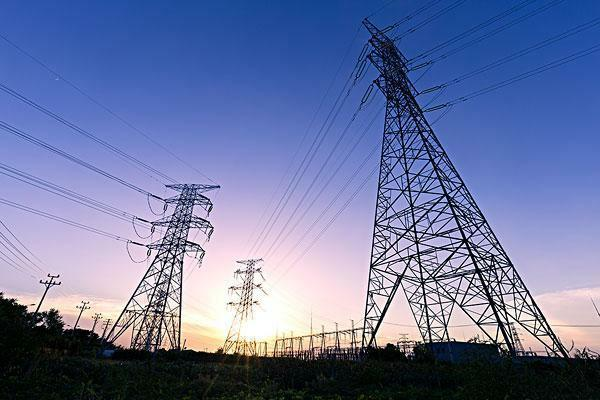power_tower: (348, 16, 575, 358), (107, 177, 226, 353), (221, 253, 273, 356)
